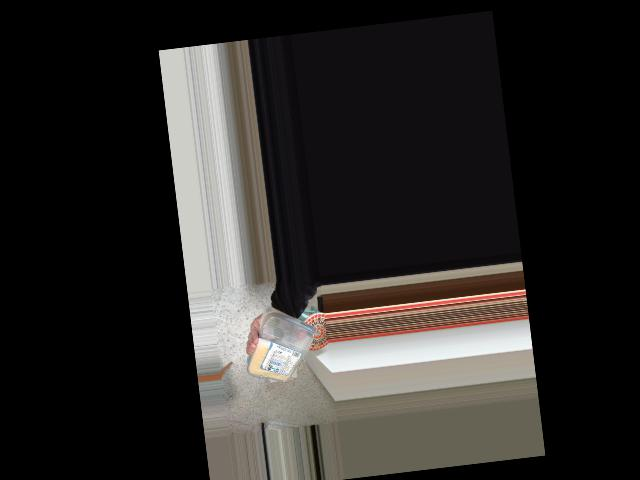cheese: (249, 310, 323, 391)
